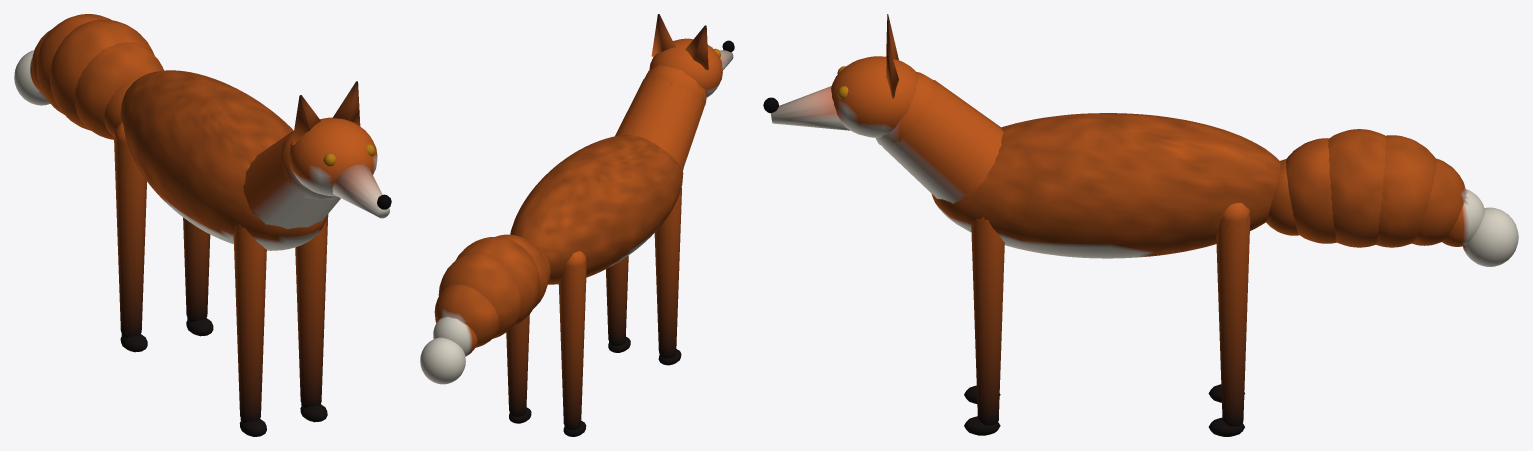
Rendered from Fox.glb.
3 renders of one model, left to right at view 1: azimuth 30°, elevation 25°; view 2: azimuth 150°, elevation 25°; view 3: azimuth 270°, elevation 25°, orthographic. The views are drawn at different scales.
Parts seen in each view (by area): view 1: FoxBody, Tail, FoxHead, LegFL, LegBL, LegFR, Neck, LegBR, FoxEyes; view 2: FoxBody, Tail, Neck, LegBL, LegFL, FoxHead, LegBR, LegFR; view 3: FoxBody, Tail, Neck, FoxHead, LegBR, LegFR.
Boxes of the visible parts, x1,y1,x2,y2 form: FoxBody: (120, 70, 328, 250); Tail: (14, 14, 163, 139); FoxHead: (289, 81, 389, 218); LegFL: (233, 224, 266, 436); LegBL: (114, 122, 147, 352); LegFR: (295, 215, 328, 422); Neck: (243, 130, 340, 229); LegBR: (183, 217, 213, 336); FoxEyes: (323, 144, 391, 209); FoxBody: (510, 134, 683, 284); Tail: (420, 234, 550, 384); Neck: (615, 65, 706, 170); LegBL: (558, 251, 586, 436); LegFL: (654, 188, 681, 365); FoxHead: (649, 14, 733, 97); LegBR: (506, 314, 531, 423); LegFR: (606, 255, 630, 352); FoxBody: (931, 113, 1280, 258); Tail: (1266, 129, 1518, 266); Neck: (875, 72, 1003, 203); FoxHead: (771, 14, 918, 137); LegBR: (1208, 202, 1250, 436); LegFR: (964, 217, 1004, 435).
Bounding box in the file's own units: 0.2372 × 0.7039 × 1.24.
